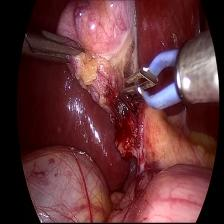Bipolar: (120, 41, 207, 122)
Grasper: (22, 22, 87, 72)
